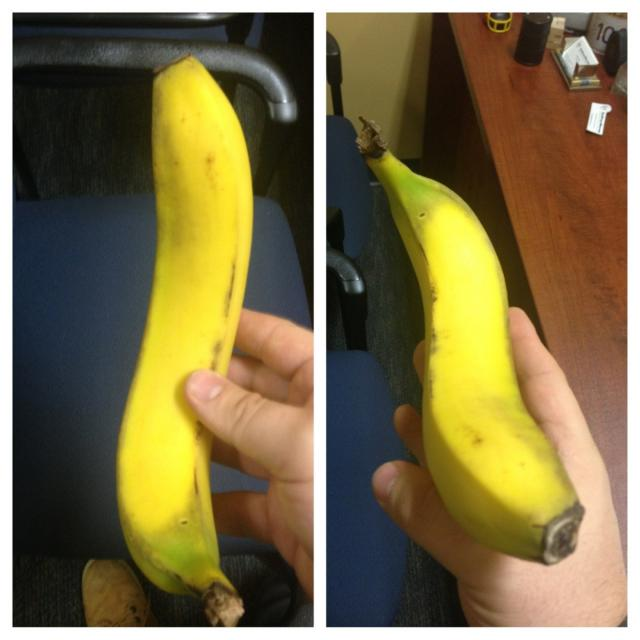Banana: (361, 120, 588, 562), (118, 55, 263, 617)
